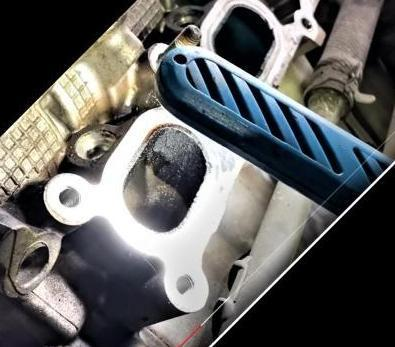hole: (52, 180, 86, 214), (168, 269, 201, 302), (295, 13, 316, 34)
